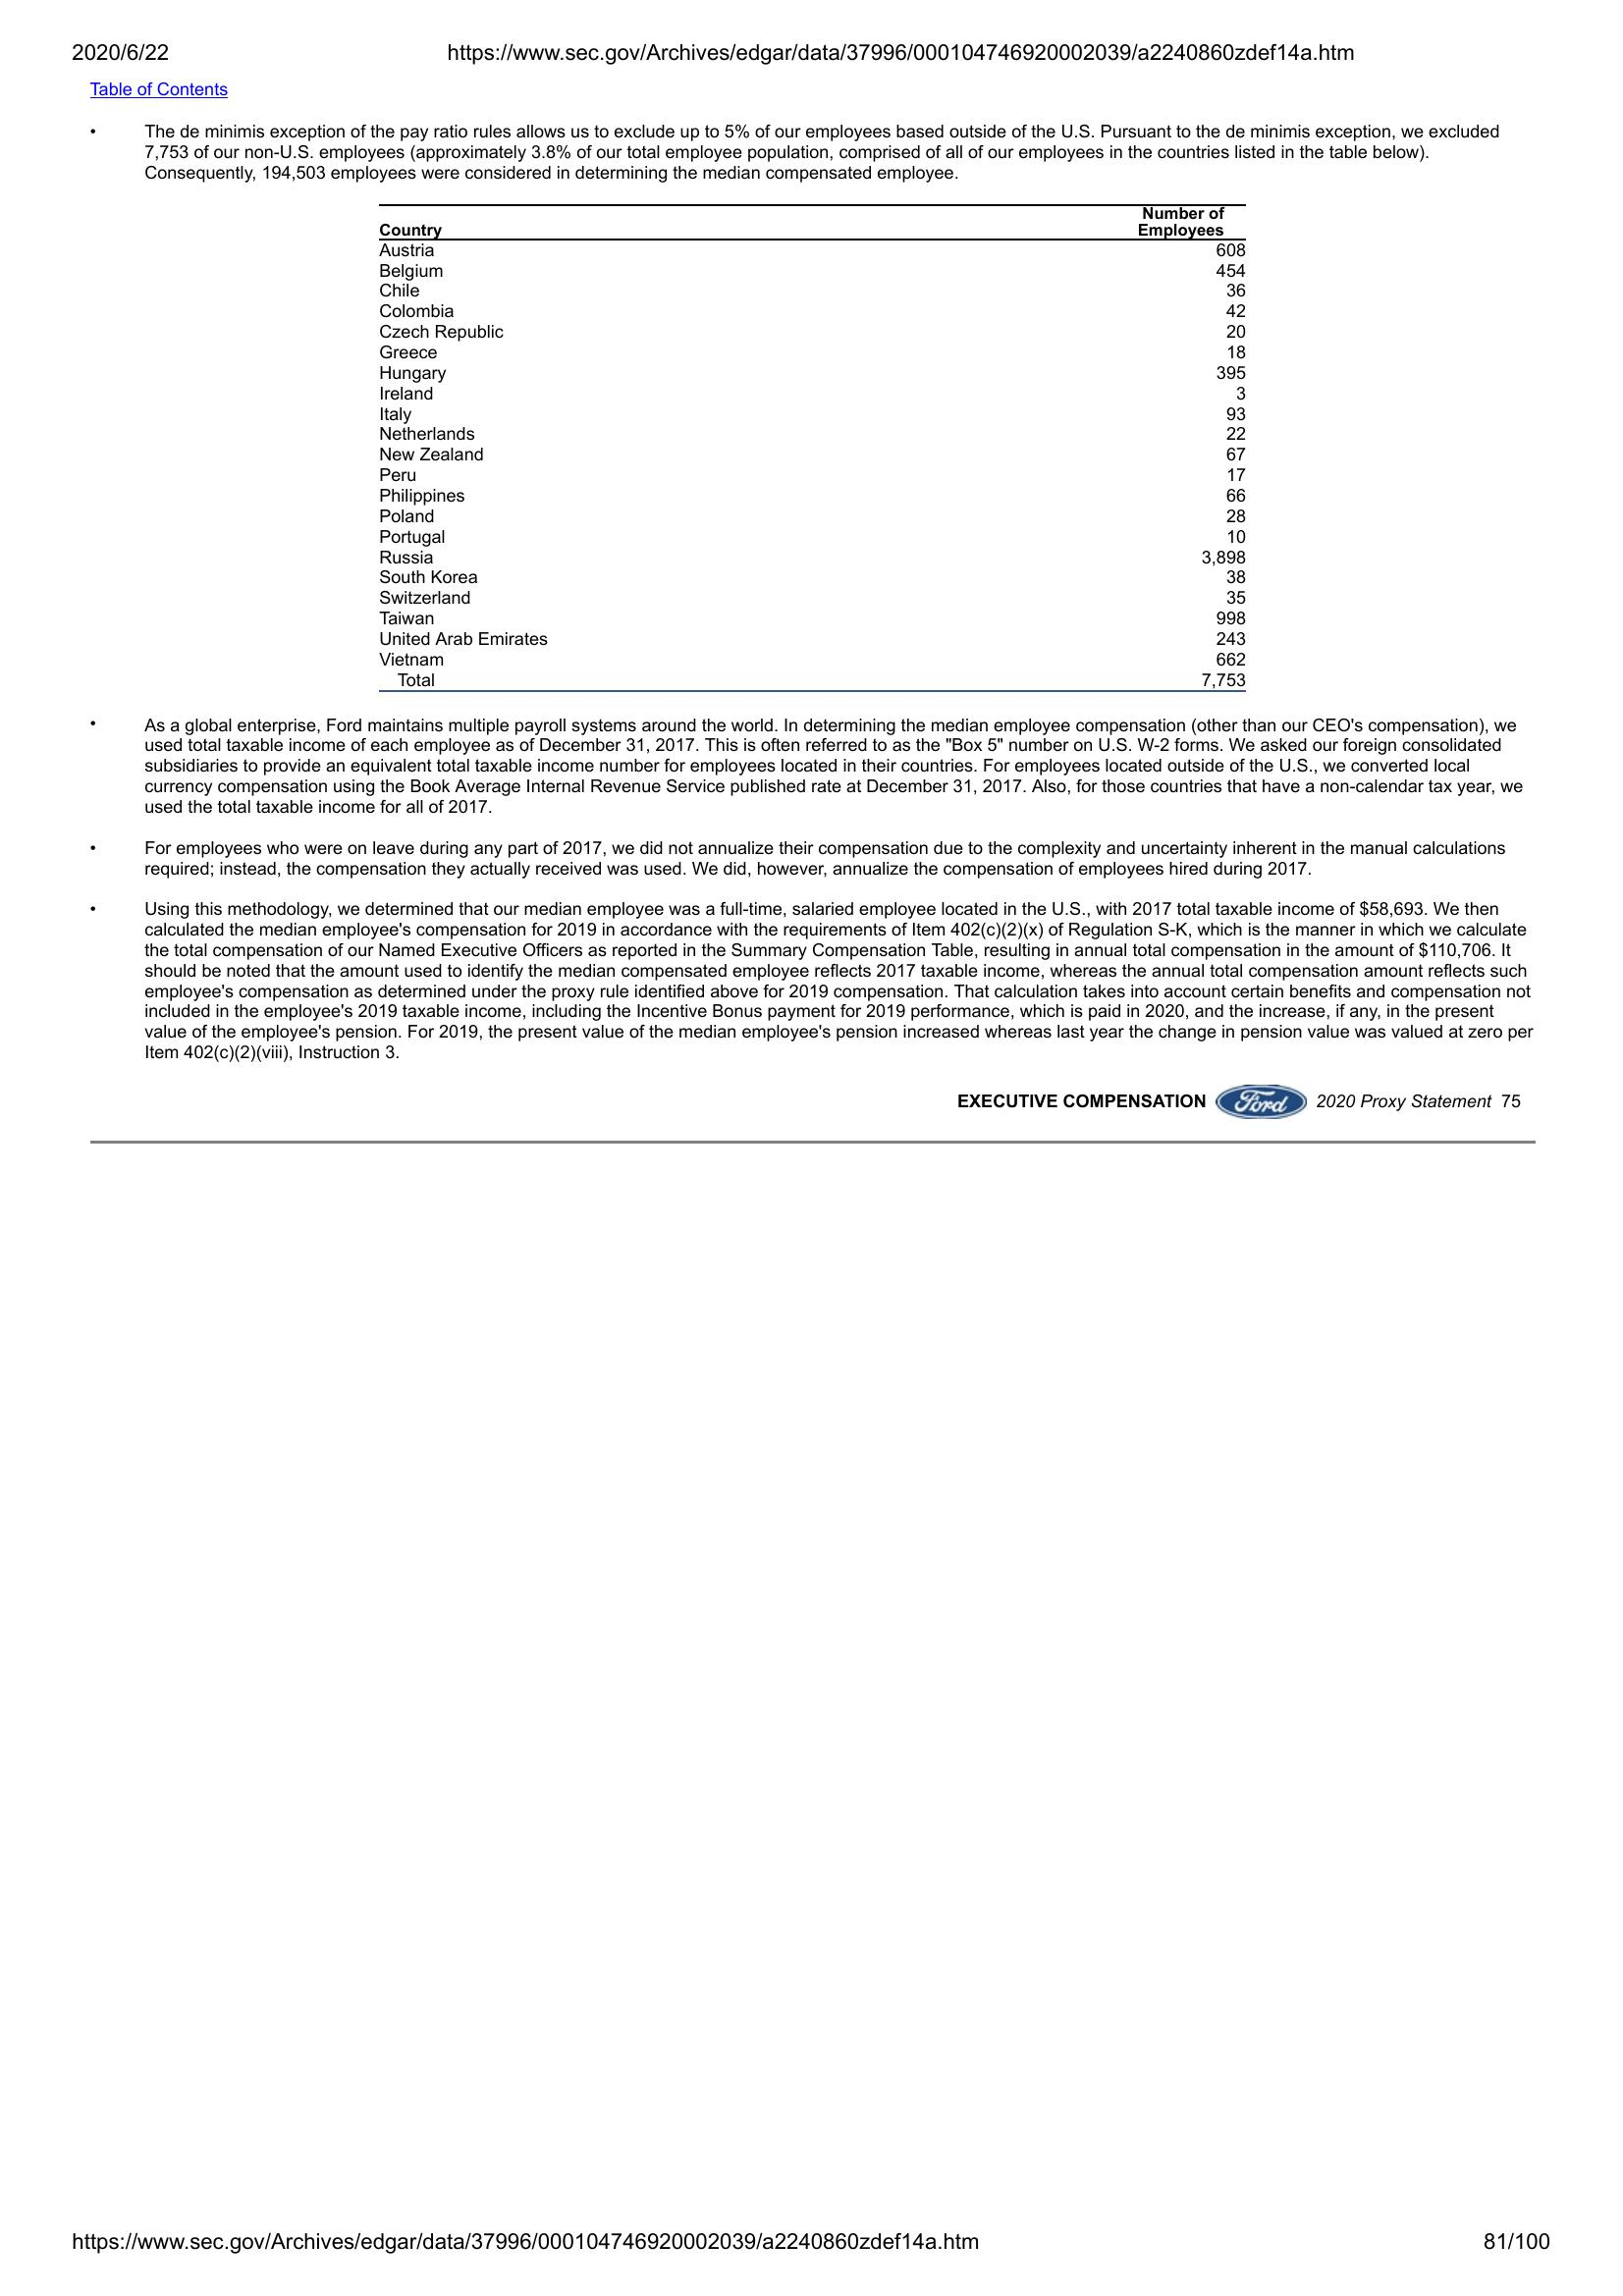table: (374, 200, 1252, 697)
